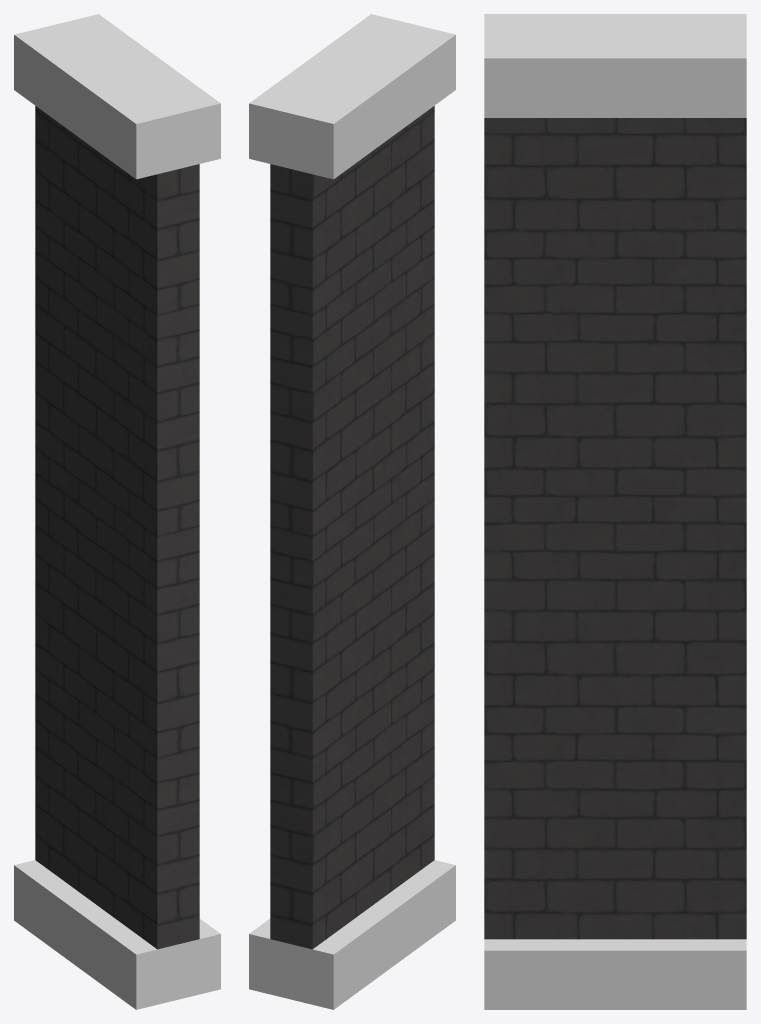
File: Dungeon_Wall.fbx
The picture shows the model from 3 angles, left to right: view 1: azimuth 30°, elevation 25°; view 2: azimuth 150°, elevation 25°; view 3: azimuth 270°, elevation 25°; orthographic projection. The views are drawn at different scales.
Visible parts, largest first — view 1: Cube.001; view 2: Cube.001; view 3: Cube.001.
Boxes of the visible parts, left/top/right/bottom form: Cube.001: left=14, top=14, right=220, bottom=1009; Cube.001: left=249, top=14, right=455, bottom=1009; Cube.001: left=484, top=14, right=746, bottom=1009.
Size of the model in its own units: 80 by 800 by 200.
